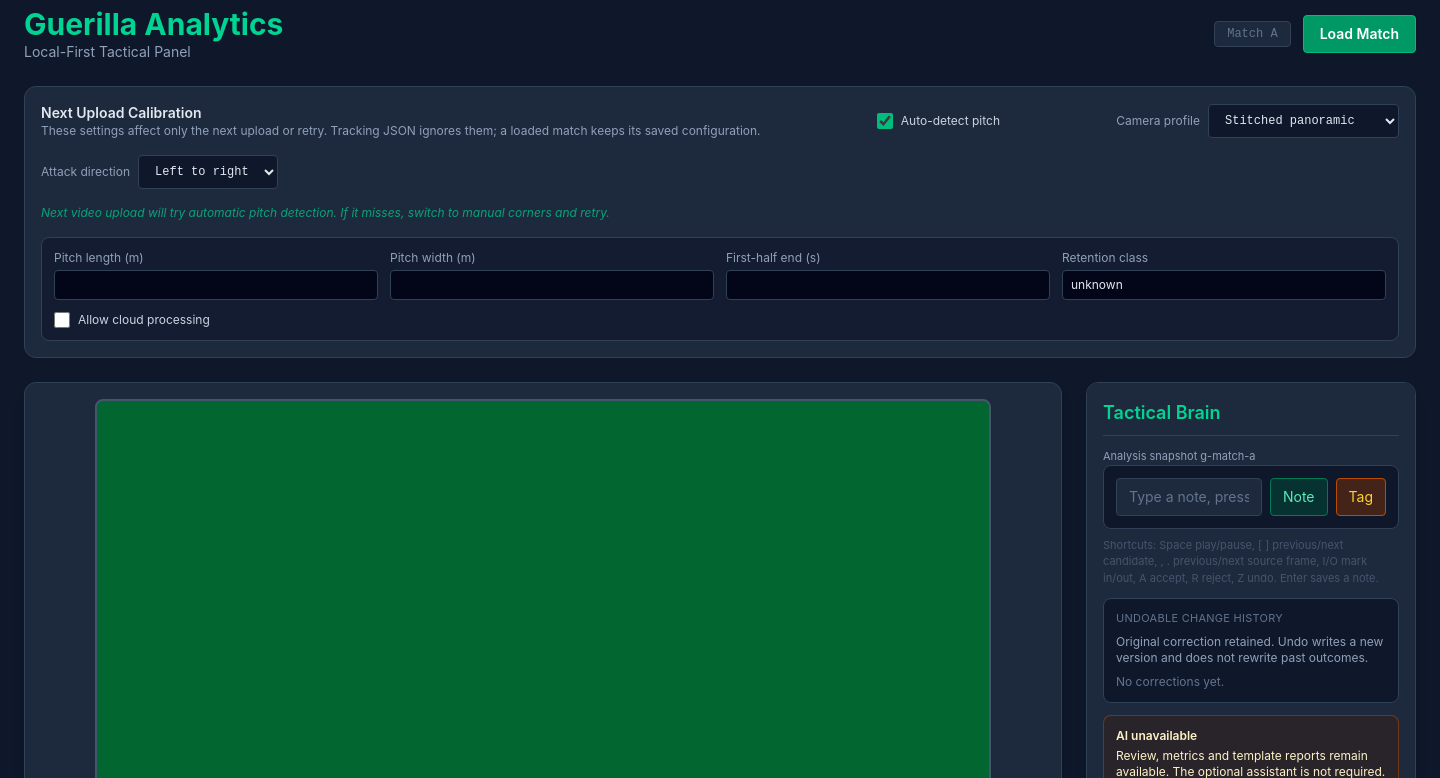
Scenario: App match workspace loading › opens the exported playlist source interval on the review timeline
The image size is (1440, 778).
Expected: the text "Match A" is shown, 1214,21 -> 1291,47
Press i
Press o
(page scrolled)
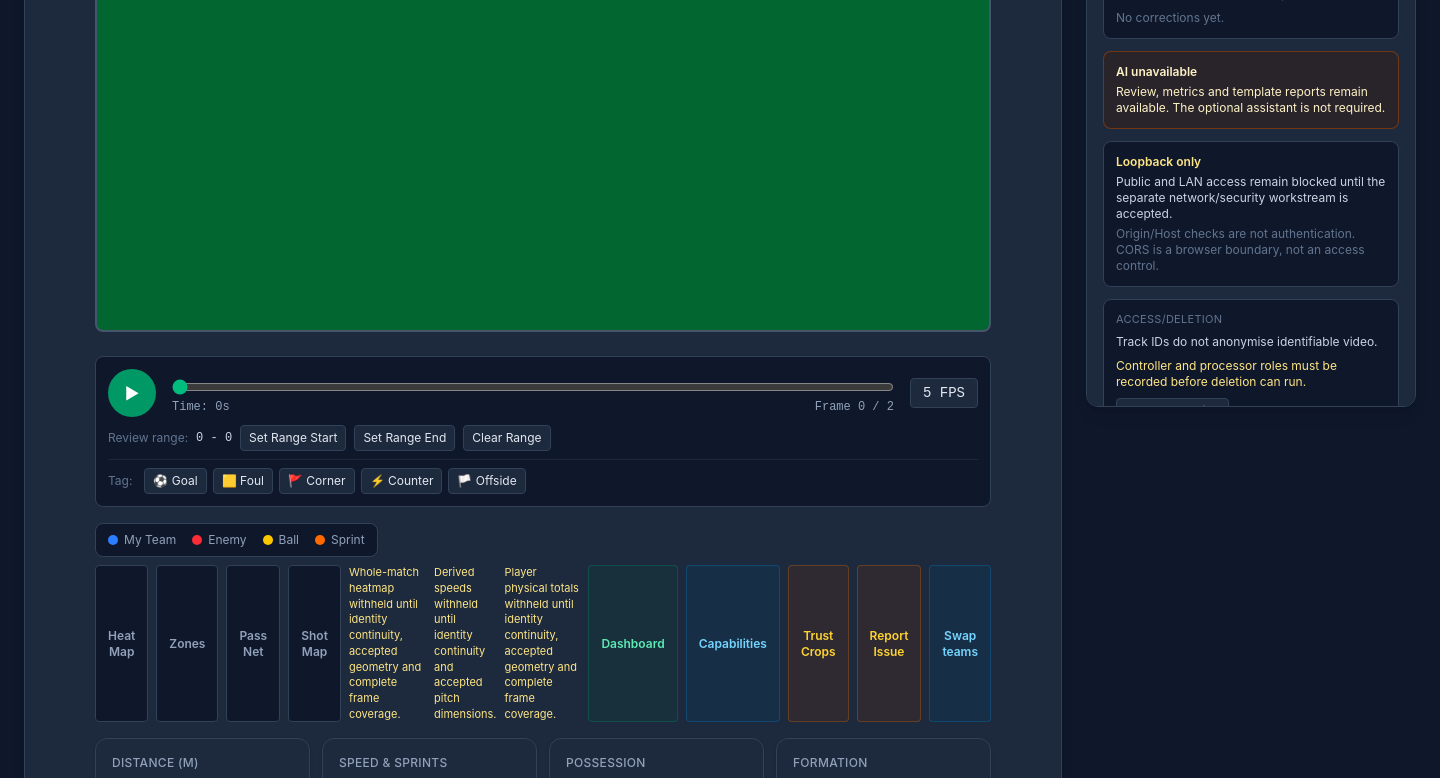
Set the slider named "Timeline scrubber" to "2": [886, 387] box 172,379 -> 894,395
(page scrolled)
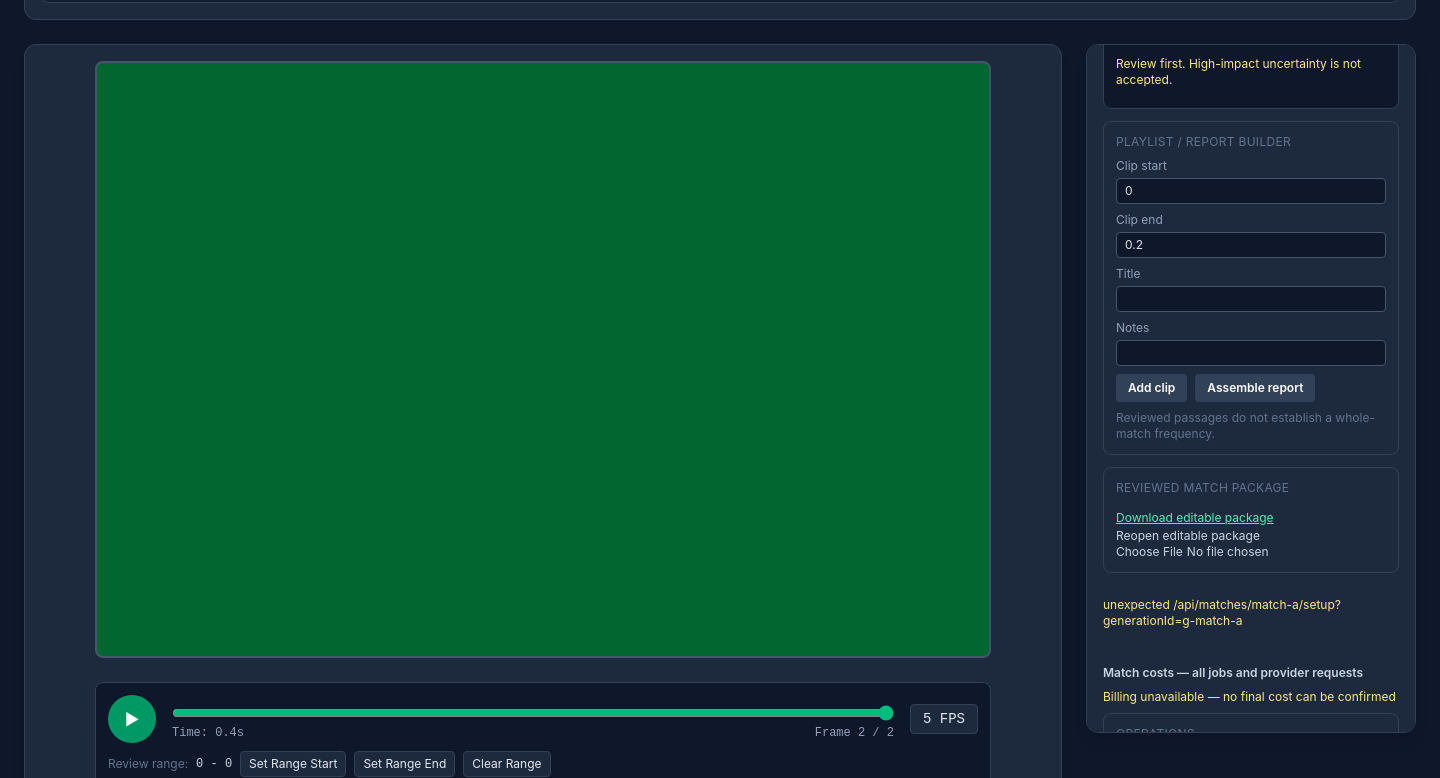
Click the button "Add clip": [1152, 388] box 1116,374 -> 1187,402
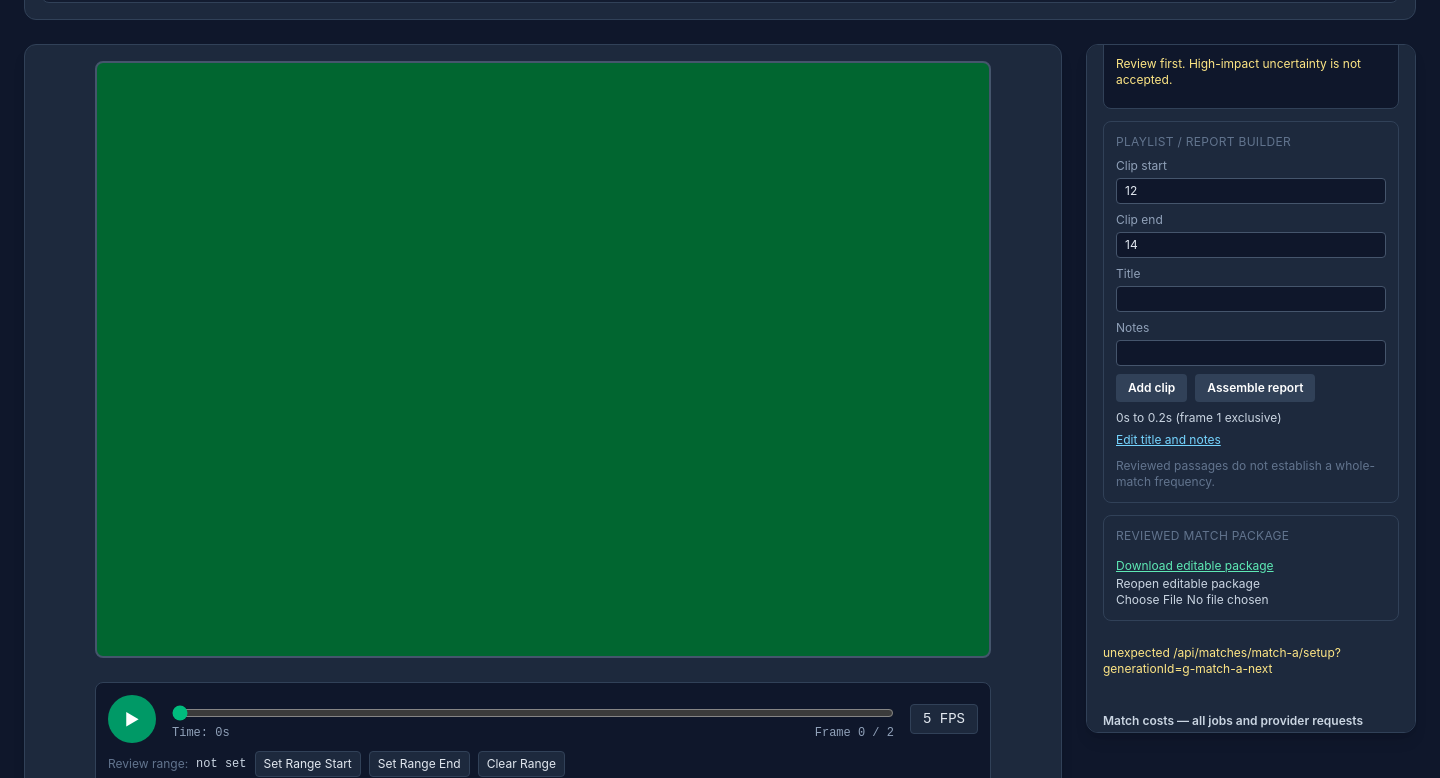
Result: the slider named "Timeline scrubber" holds "0" at 172,705 -> 894,721
